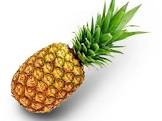Pineapple: (11, 1, 150, 115)
